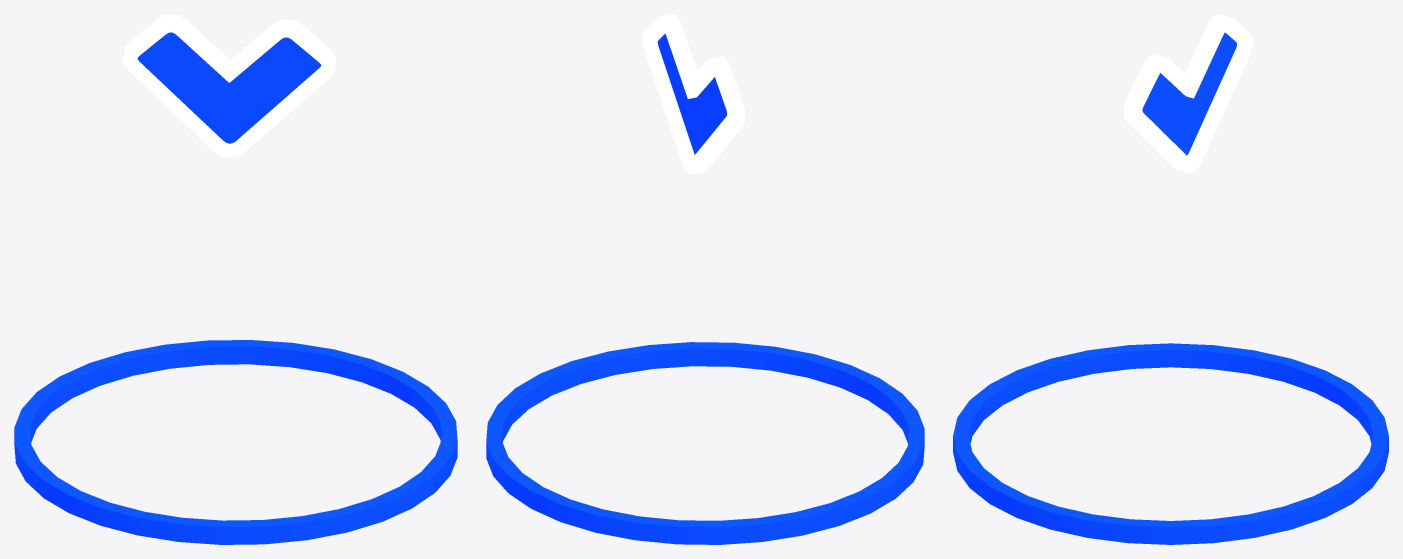
The model's file is indigoPod.glb.
The picture shows the model from 3 angles, left to right: view 1: azimuth 30°, elevation 25°; view 2: azimuth 150°, elevation 25°; view 3: azimuth 270°, elevation 25°; orthographic projection.
Visible parts, largest first — view 1: indigoPod; view 2: indigoPod; view 3: indigoPod.
Part boxes in pixels (x1,y1,x2,y2): indigoPod: [14, 14, 457, 544]; indigoPod: [486, 14, 924, 544]; indigoPod: [953, 14, 1388, 544].
Size of the model in its own units: 6.59 by 6.96 by 6.59.
